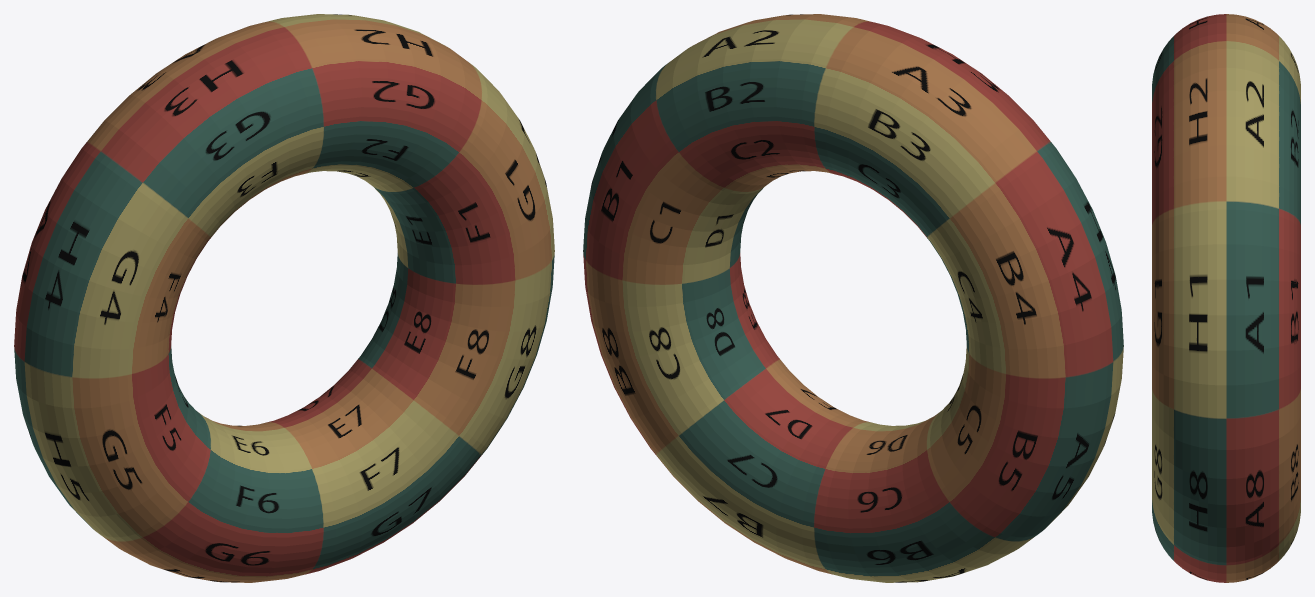
File: texture_torus_R16_r20.glb
3 renders of one model, left to right at view 1: azimuth 30°, elevation 25°; view 2: azimuth 150°, elevation 25°; view 3: azimuth 270°, elevation 25°, orthographic. The views are drawn at different scales.
Parts seen in each view (by area): view 1: world; view 2: world; view 3: world.
Part boxes in pixels (x1,y1,x2,y2): world: (14,14,554,582); world: (583,14,1123,582); world: (1152,14,1300,582).
Bounding box in the file's own units: 28 × 27.94 × 7.32.
1 material, 1 textured.
